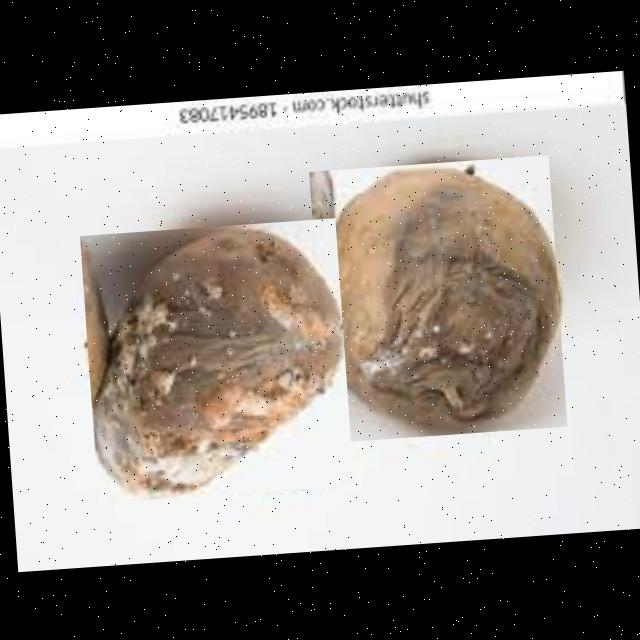Diseased-fungal potato: (79, 217, 352, 502), (308, 154, 566, 442)
